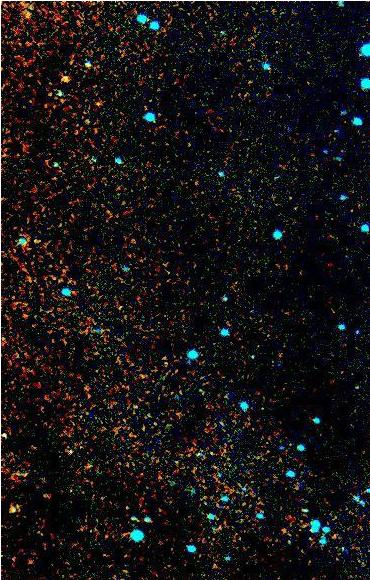star: (53, 71, 83, 101)
